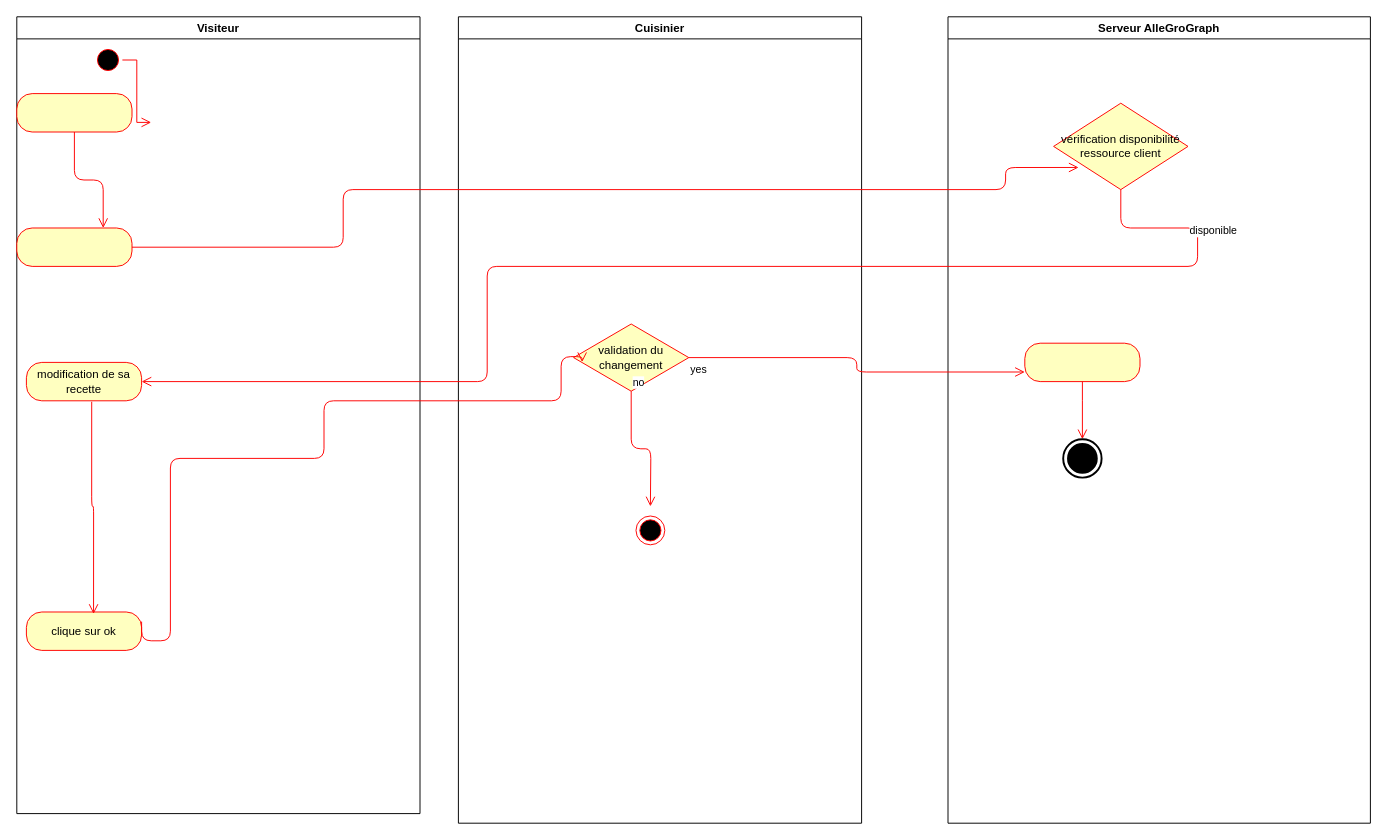
Some shapes in this 1387 by 840 pixel diagram are drawn without their labels. The shapes that lost their labels are listed below. From the top down, each one's box as (x1, y1, x2, y2) in pixels, then its label:
(16, 93, 132, 132): Clique sur le bouton d'edition
(16, 227, 132, 266): choix du plat
(1024, 342, 1140, 382): Sauvergarde de la connaissance du met modifié
